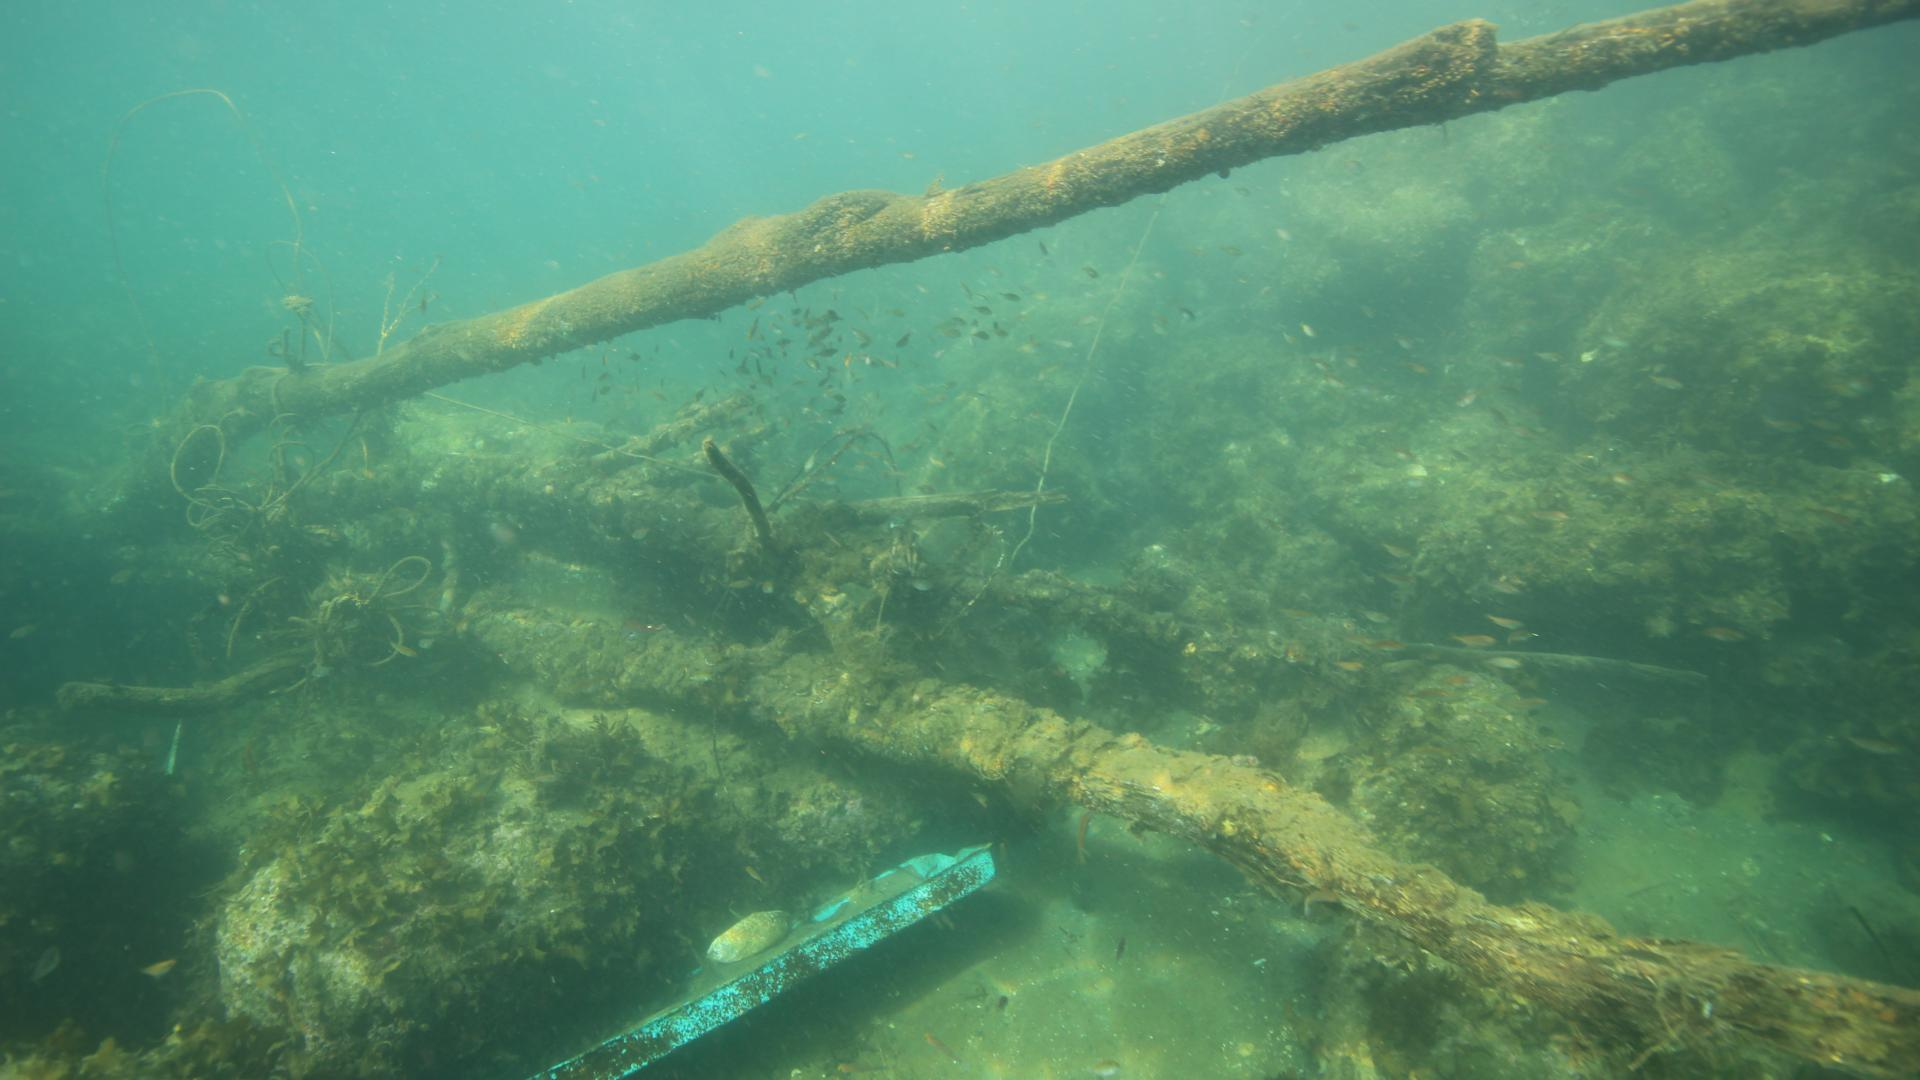bundle of ropes: (102, 88, 448, 698)
wood: (55, 0, 1920, 1080)
